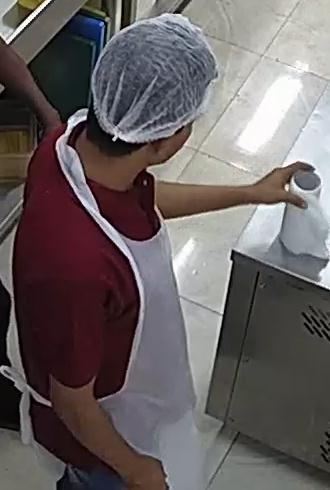apron: (53, 99, 207, 459)
